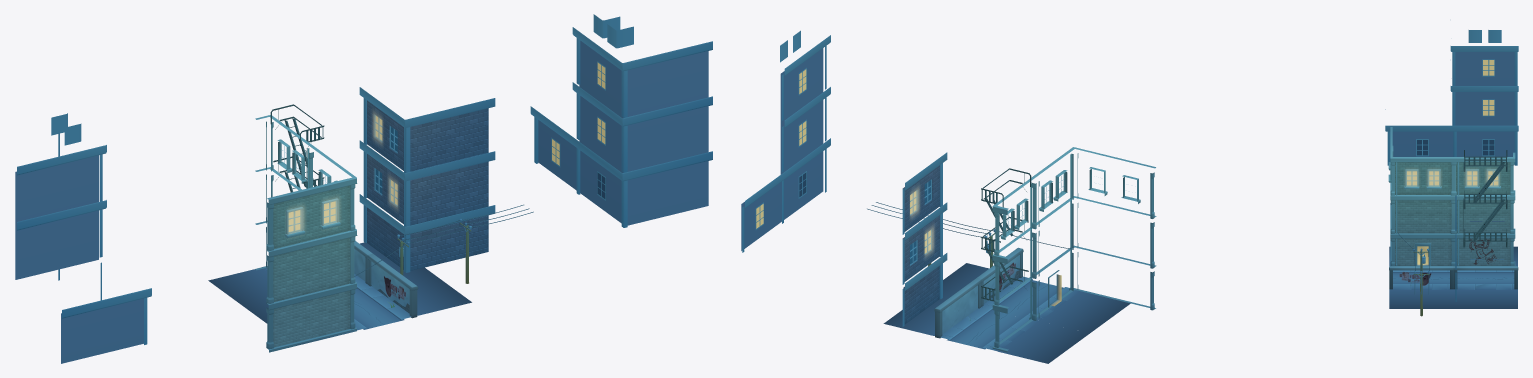
The model's file is UrbanBuilding03.prefab.glb.
The picture shows the model from 3 angles, left to right: view 1: azimuth 30°, elevation 25°; view 2: azimuth 150°, elevation 25°; view 3: azimuth 270°, elevation 25°; orthographic projection. The views are drawn at different scales.
Visible parts, largest first — view 1: FarBackBuilding02, BackgroundBuilding02, Building03 (1), UrbanBuilding03, Road02, PlasteredWall02, FireEscape (1); view 2: FarBackBuilding02, Building03 (1), BackgroundBuilding02, Road02, UrbanBuilding03, PlasteredWall01, FireEscape (1), PlasteredWall02; view 3: Building03 (1), FarBackBuilding02, Road02, UrbanBuilding03, FireEscape (1), PlasteredWall01, PlasteredWall02, BackgroundBuilding02, Graffiti07, LightGlowPlane (2), LightGlowPlane (3), LightGlowPlane (4) (+4 smaller).
Boxes of the visible parts, left/top/right/bottom form: FarBackBuilding02: left=15, top=14, right=712, bottom=363; BackgroundBuilding02: left=359, top=87, right=495, bottom=272; Building03 (1): left=255, top=115, right=357, bottom=352; UrbanBuilding03: left=253, top=270, right=471, bottom=345; Road02: left=208, top=242, right=427, bottom=312; PlasteredWall02: left=367, top=254, right=418, bottom=318; FireEscape (1): left=270, top=104, right=324, bottom=192; FarBackBuilding02: left=741, top=30, right=830, bottom=252; Building03 (1): left=992, top=147, right=1156, bottom=352; BackgroundBuilding02: left=902, top=152, right=947, bottom=326; Road02: left=883, top=298, right=1089, bottom=363; UrbanBuilding03: left=943, top=263, right=1130, bottom=333; PlasteredWall01: left=934, top=278, right=981, bottom=338; FireEscape (1): left=981, top=168, right=1031, bottom=318; PlasteredWall02: left=977, top=247, right=1023, bottom=306; Building03 (1): left=1388, top=127, right=1515, bottom=265; FarBackBuilding02: left=1385, top=30, right=1518, bottom=165; Road02: left=1453, top=246, right=1517, bottom=308; UrbanBuilding03: left=1389, top=246, right=1453, bottom=308; FireEscape (1): left=1463, top=150, right=1507, bottom=247; PlasteredWall01: left=1453, top=266, right=1518, bottom=289; PlasteredWall02: left=1389, top=266, right=1453, bottom=289; BackgroundBuilding02: left=1455, top=195, right=1504, bottom=301; Graffiti07: left=1469, top=239, right=1496, bottom=264; LightGlowPlane (2): left=1405, top=169, right=1418, bottom=186; LightGlowPlane (3): left=1427, top=169, right=1440, bottom=186; LightGlowPlane (4): left=1465, top=169, right=1478, bottom=186.
Size of the model in its own units: 76.34 by 26.28 by 18.7.
Materials: 10 (9 with a texture image).
